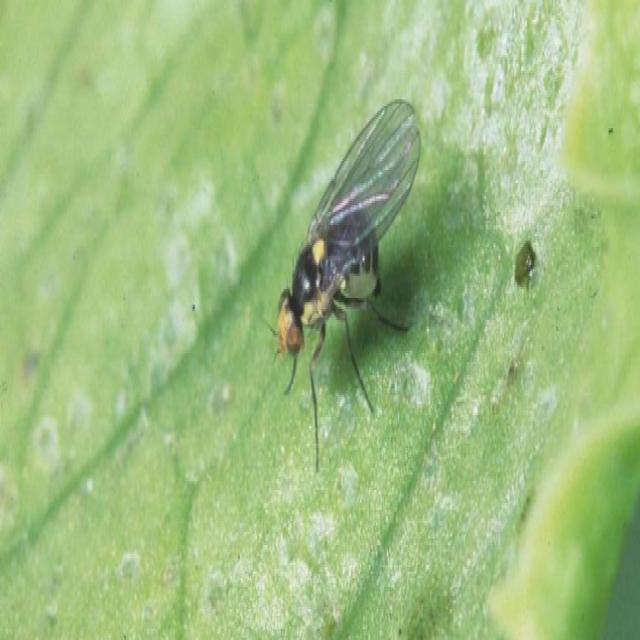Serpentine leafminer: (262, 105, 419, 480)
